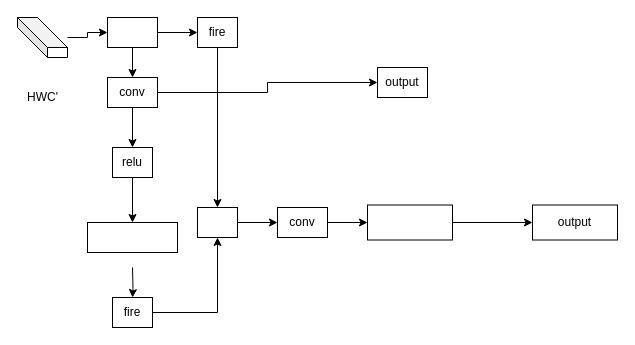
Some shapes in this 635 by 345 pixel diagram are drawn without their labels. The box of each missing label's shape, as (x1, y1, x2, y2) in pixels:
batchnorm2d: (86, 222, 178, 252)
cat: (196, 206, 238, 238)
defire: (106, 16, 158, 48)
sigmod: (366, 204, 452, 240)
